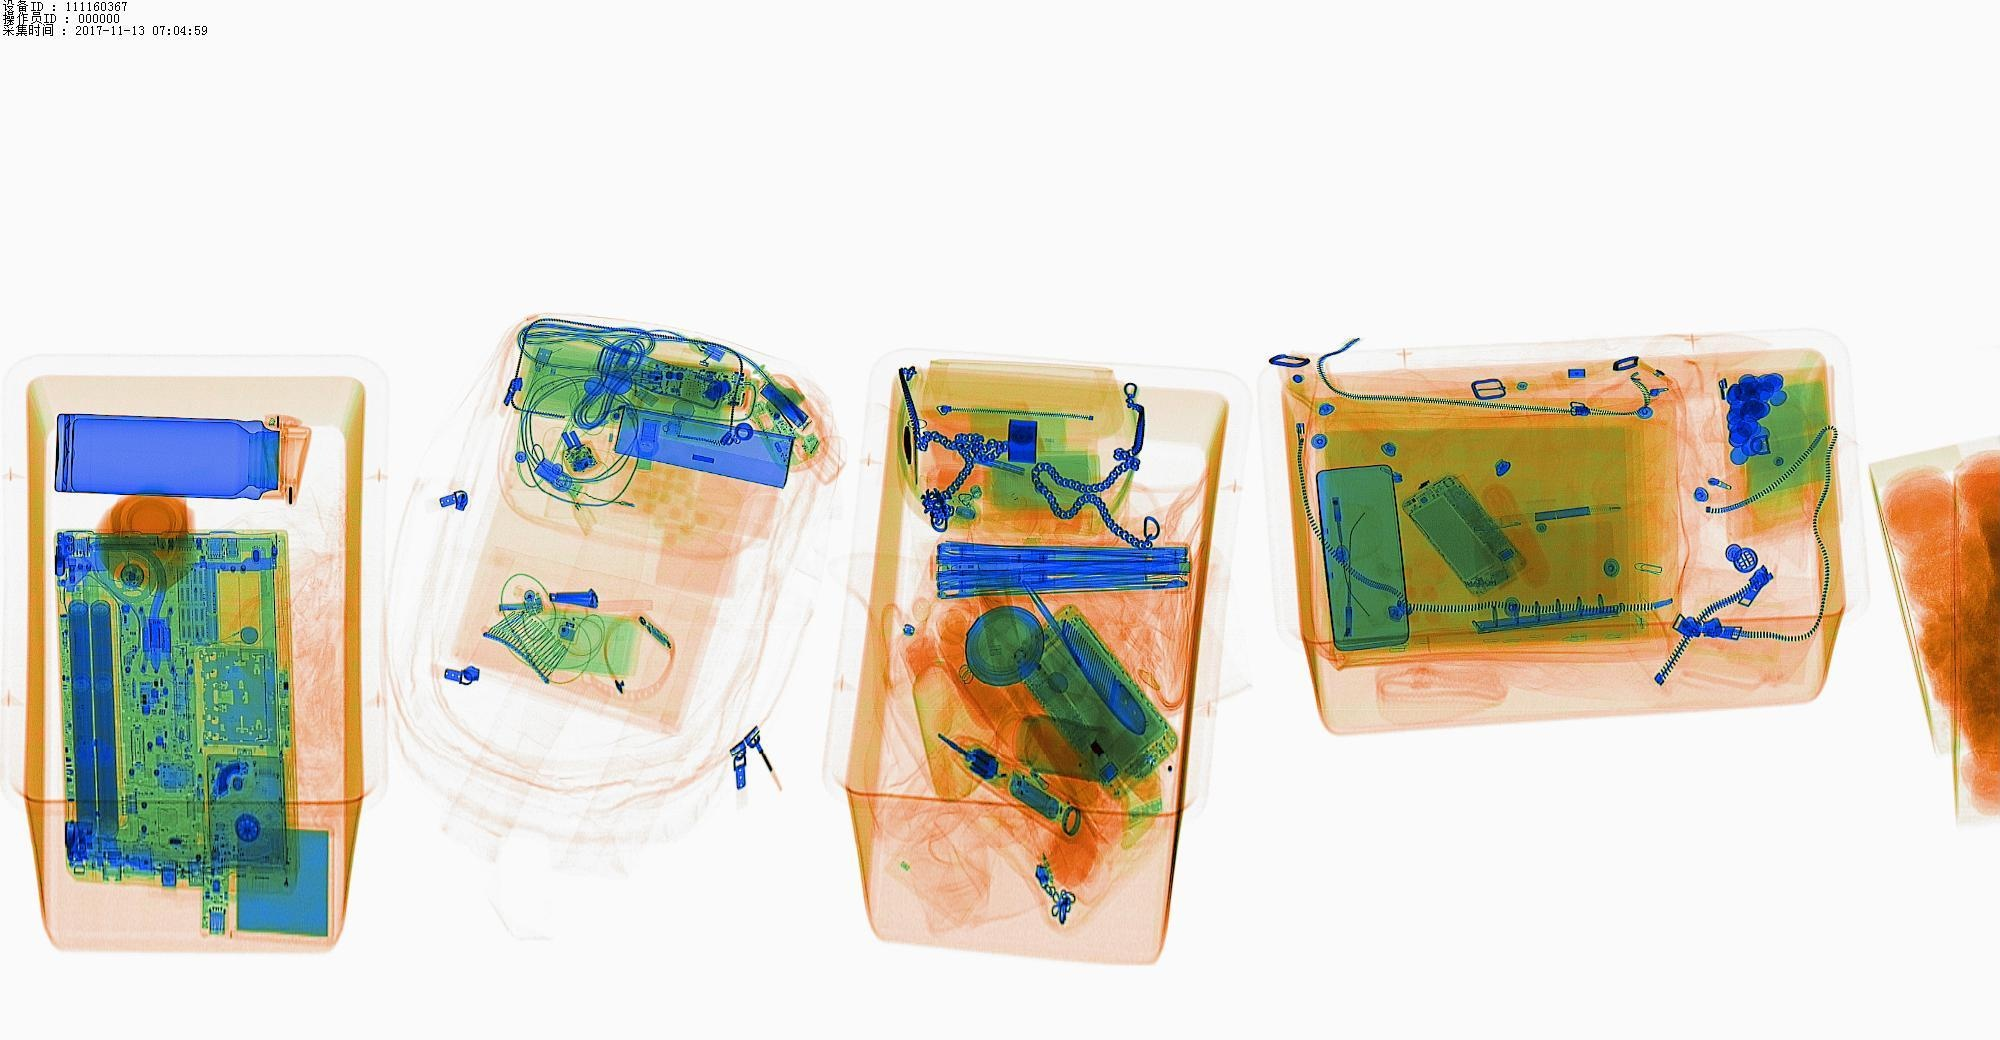coreless: (206, 826, 331, 941)
